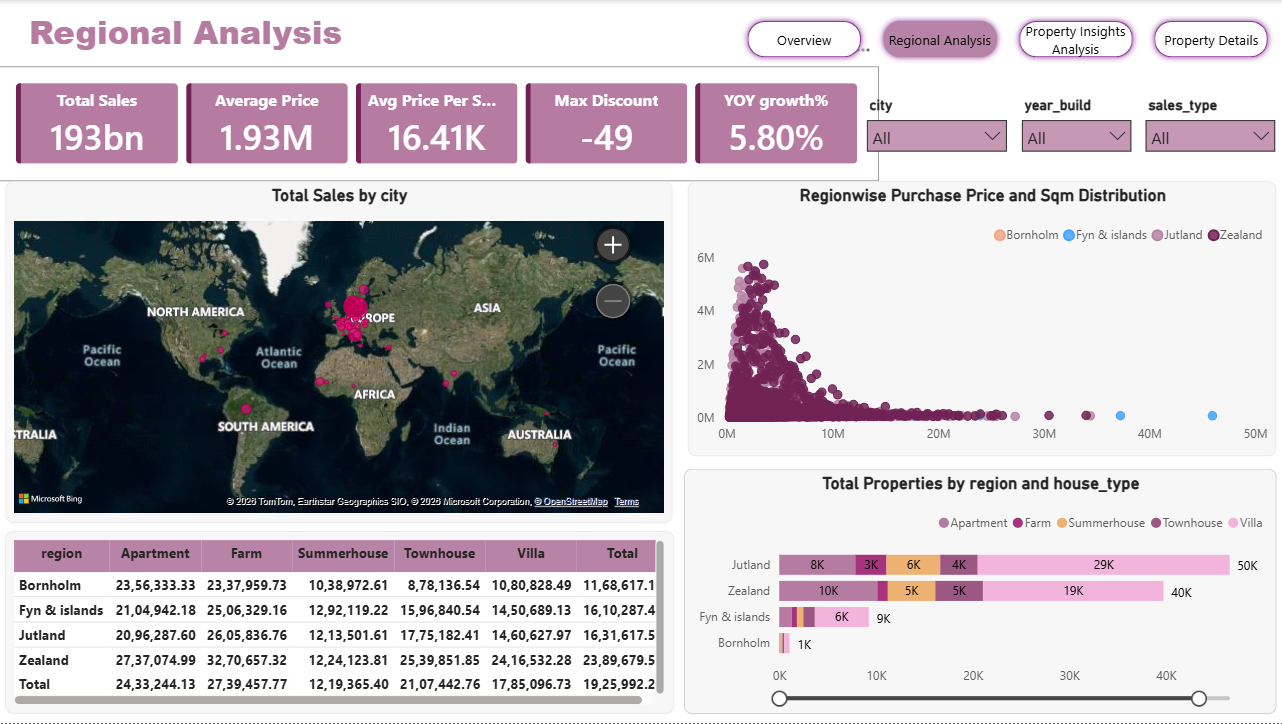

Layout of this report page (visuals, bound fields, positions):
{"tool":"powerbi","page":{"name":"Regional Analysis","canvas":[1280,720],"ordinal":1},"visuals":[{"type":"cardVisual","fields":{"Data":["Measure Table.Total Sales","Measure Table.Average Price","Measure Table.Avg Price Per Sqm","Measure Table.Max Discount","Measure Table.YOY growth%"]},"box":[0,65.9,875.7,114.4],"z":0},{"type":"scatterChart","title":"Regionwise Purchase Price  and Sqm Distribution","fields":{"Series":["Housing Data.region"],"X":["Housing Data.purchase_price"],"Y":["Housing Data.sqm_price"]},"box":[685.4,180.4,585.9,273.7],"z":1000},{"type":"pivotTable","fields":{"Columns":["Housing Data.house_type"],"Rows":["Housing Data.region"],"Values":["Measure Table.Average Price"]},"box":[6.2,528.7,665.5,181.6],"z":2000},{"type":"slicer","fields":{"Values":["Housing Data.city"]},"box":[853.4,90.8,159.2,64.7],"z":3000},{"type":"slicer","fields":{"Values":["Housing Data.year_build"]},"box":[1007.6,90.8,129.4,65.9],"z":4000},{"type":"barChart","fields":{"Category":["Housing Data.region"],"Series":["Housing Data.house_type"],"Y":["Measure Table.Total Properties"]},"box":[681.7,466.5,589.6,243.8],"z":5000},{"type":"textbox","box":[24.9,3.7,406.8,67.2],"z":6000},{"type":"map","fields":{"Category":["Housing Data.city"],"Size":["Measure Table.Total Sales"]},"box":[6.2,180.4,664.3,339.6],"z":7000},{"type":"slicer","fields":{"Values":["Housing Data.sales_type"]},"box":[1130.7,90.8,149.3,65.9],"z":8000},{"type":"pageNavigator","box":[738.9,14.9,532.4,48.5],"z":8001}]}

Visuals, with their boxes in screenshot pixels (x1, y1, x2, y2), scaled from the page's 1280x720 canvas onto the 1282x724 screenshot:
cardVisual - Measure Table.Total Sales x Measure Table.Average Price: 0, 66, 877, 181
"Regionwise Purchase Price  and Sqm Distribution" scatterChart: 686, 181, 1273, 457
pivotTable - Housing Data.house_type x Housing Data.region: 6, 532, 673, 714
slicer - Housing Data.city: 855, 91, 1014, 156
slicer - Housing Data.year_build: 1009, 91, 1139, 158
barChart - Housing Data.region x Housing Data.house_type: 683, 469, 1273, 714
textbox: 25, 4, 432, 71
map - Housing Data.city x Measure Table.Total Sales: 6, 181, 672, 523
slicer - Housing Data.sales_type: 1132, 91, 1281, 158
pageNavigator: 740, 15, 1273, 64
